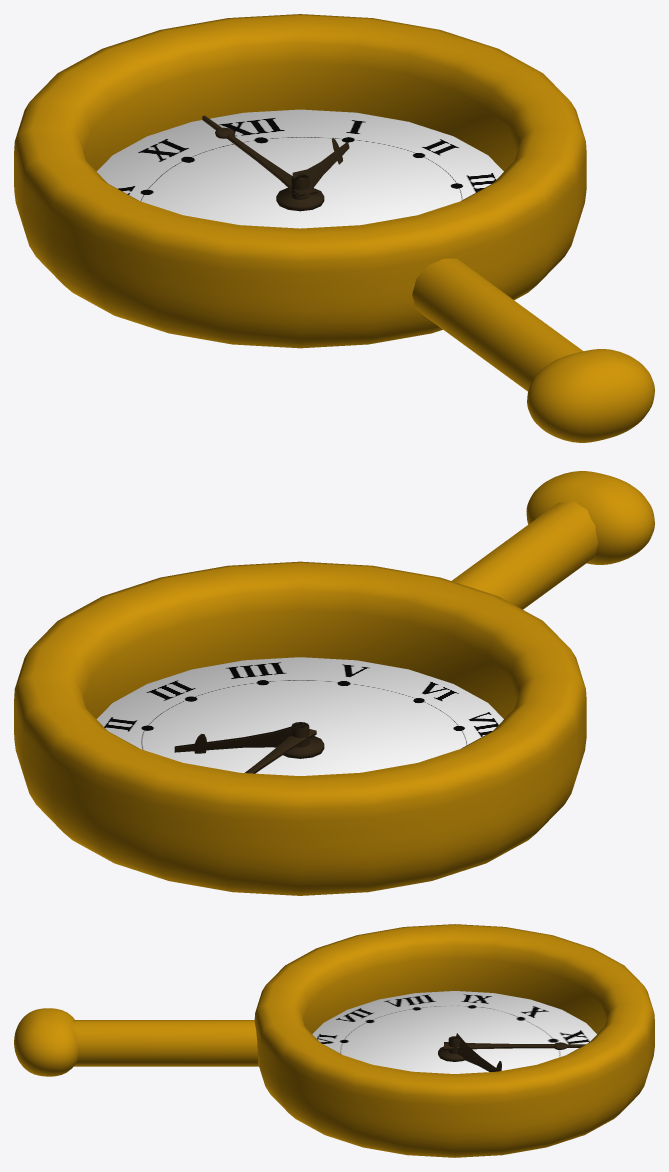
The model's file is clockModel.glb.
3 views of the same model, one above another, from view 1: azimuth 30°, elevation 25°; view 2: azimuth 150°, elevation 25°; view 3: azimuth 270°, elevation 25° (orthographic). The views are drawn at different scales.
Visible parts, largest first — view 1: ClockBorder, ClockFace, ClockHandle, ClockEnd, MinClockHand, ClockDial, HourClockHand; view 2: ClockBorder, ClockFace, ClockHandle, ClockEnd, HourClockHand, MinClockHand; view 3: ClockBorder, ClockFace, ClockHandle, ClockEnd, MinClockHand, HourClockHand.
Boxes of the visible parts, x1,y1,x2,y2 form: ClockBorder: (14, 14, 586, 348); ClockFace: (96, 109, 503, 228); ClockHandle: (412, 258, 583, 391); ClockEnd: (527, 349, 654, 442); MinClockHand: (202, 115, 316, 198); ClockDial: (276, 187, 324, 211); HourClockHand: (292, 142, 349, 187); ClockBorder: (14, 561, 586, 895); ClockFace: (96, 657, 503, 775); ClockHandle: (452, 501, 598, 609); ClockEnd: (526, 471, 654, 564); HourClockHand: (174, 723, 304, 752); MinClockHand: (245, 729, 316, 773); ClockBorder: (254, 924, 654, 1157); ClockFace: (312, 991, 596, 1073); ClockHandle: (71, 1020, 258, 1066); ClockEnd: (14, 1008, 78, 1076); MinClockHand: (444, 1042, 585, 1050); HourClockHand: (456, 1033, 496, 1071).
Bounding box in the file's own units: 2.54 × 0.554 × 4.07.
Materials: 4 (1 with a texture image).
